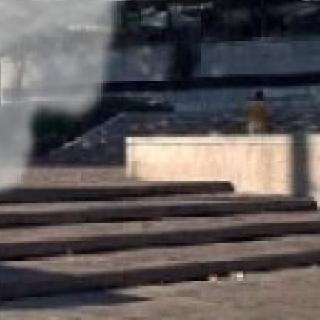smoke: (0, 0, 124, 224)
